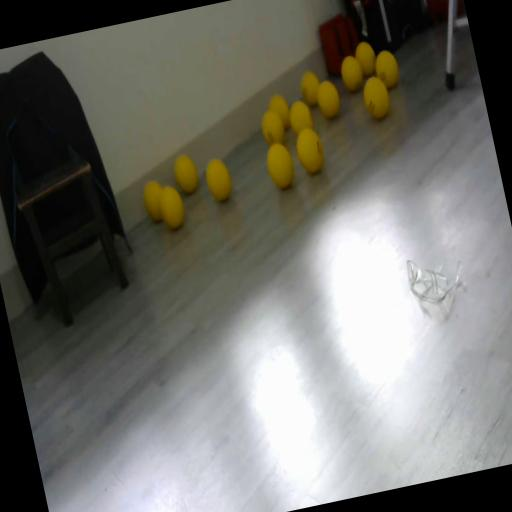FUEL: (262, 140, 297, 190), (292, 126, 326, 176), (200, 154, 234, 204), (360, 72, 392, 120), (170, 150, 200, 196), (312, 77, 344, 120), (139, 178, 169, 223), (371, 48, 402, 90), (285, 97, 315, 136), (338, 52, 366, 93), (352, 39, 379, 78), (266, 92, 292, 132), (297, 69, 324, 107)
